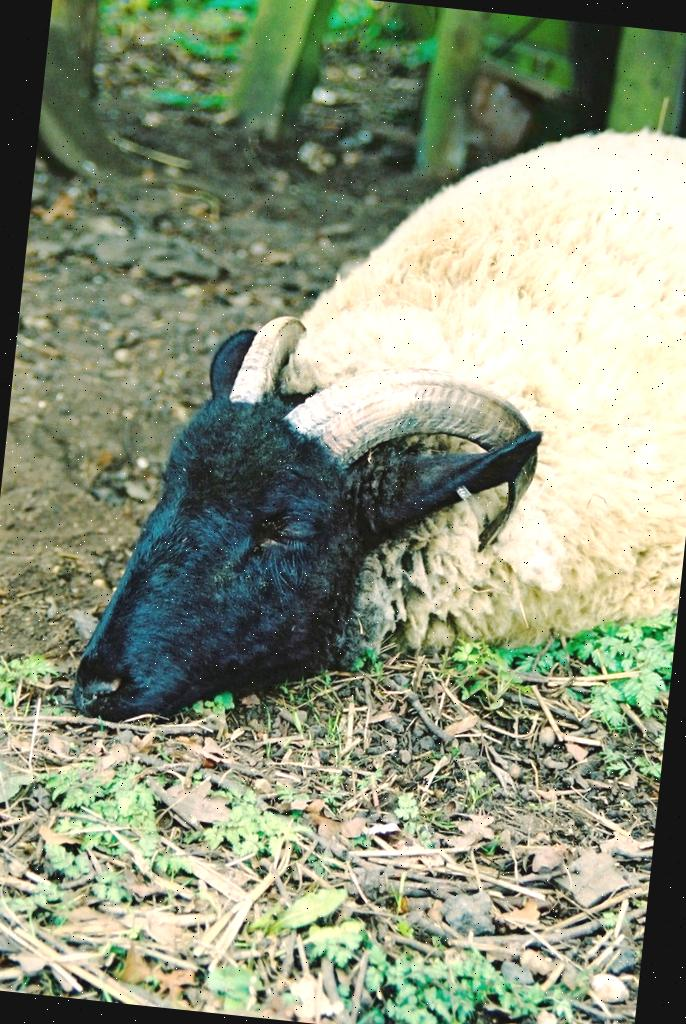Sheep: (69, 73, 686, 784)
